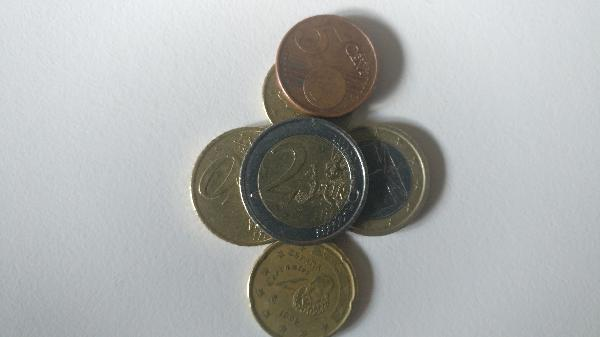Fifty Cent: (187, 123, 296, 242)
Five Cent: (275, 10, 385, 118)
One Euro: (339, 126, 430, 237)
Twenty Cent: (245, 239, 365, 336)
Two Euro: (241, 118, 363, 248)
